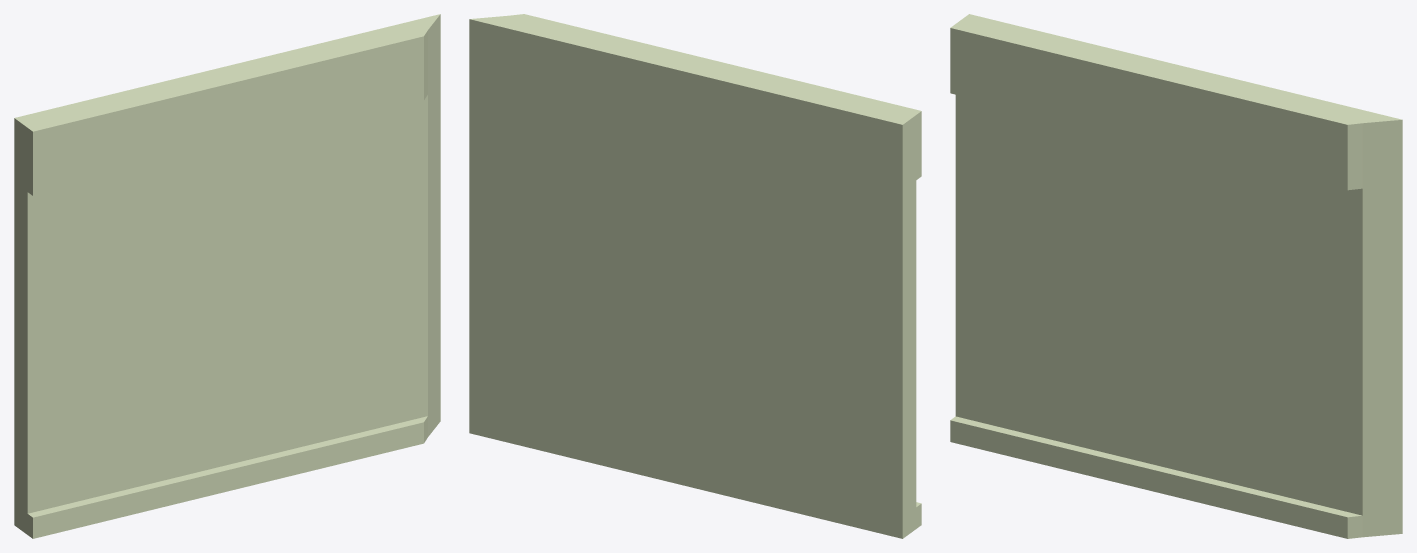
Rendered from BedRoom_Walls.fbx.
3 views of the same model, side by side, from view 1: azimuth 30°, elevation 25°; view 2: azimuth 150°, elevation 25°; view 3: azimuth 330°, elevation 25° (orthographic).
Parts seen in each view (by area): view 1: Walls; view 2: Walls; view 3: Walls.
Boxes of the visible parts, left/top/right/bottom form: Walls: left=14, top=14, right=440, bottom=538; Walls: left=469, top=14, right=921, bottom=538; Walls: left=950, top=14, right=1402, bottom=538.
Size of the model in its own units: 219 by 200 by 16.63.
